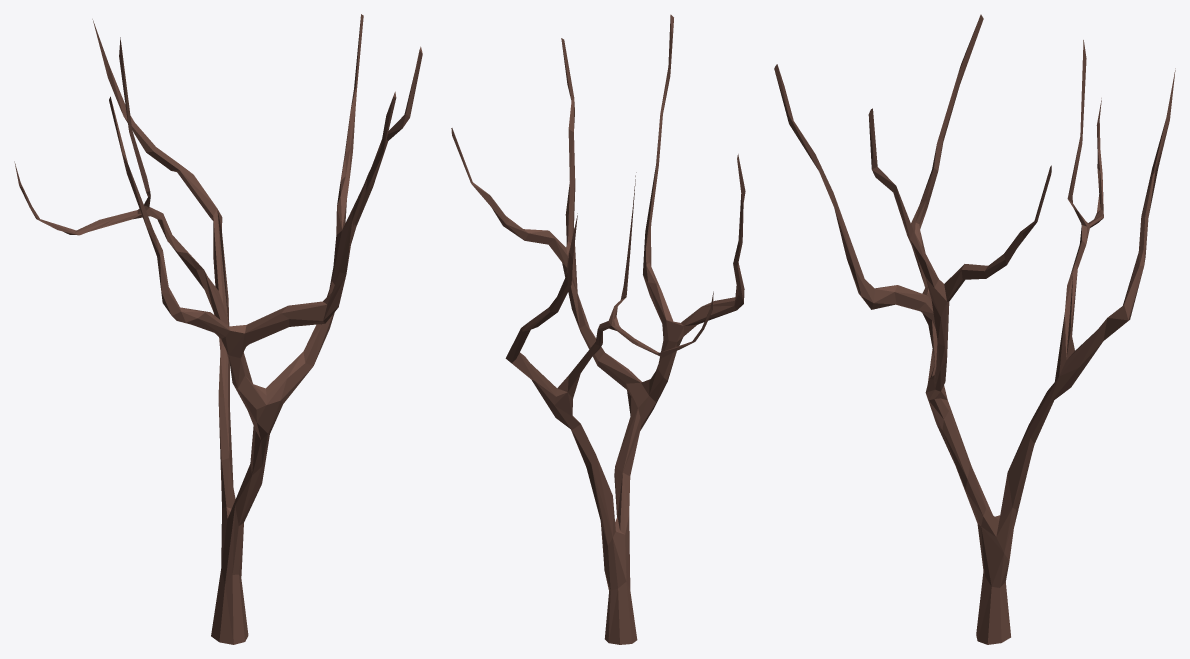
The model's file is Tree_033.glb.
The picture shows the model from 3 angles, left to right: view 1: azimuth 30°, elevation 25°; view 2: azimuth 150°, elevation 25°; view 3: azimuth 270°, elevation 25°; orthographic projection. The views are drawn at different scales.
Visible parts, largest first — view 1: Tree_033; view 2: Tree_033; view 3: Tree_033.
Boxes of the visible parts, <box> form: Tree_033: <box>14,14,422,644</box>; Tree_033: <box>451,14,745,644</box>; Tree_033: <box>774,14,1175,644</box>.
Size of the model in its own units: 6.52 by 11.84 by 7.18.
1 material, 1 textured.
